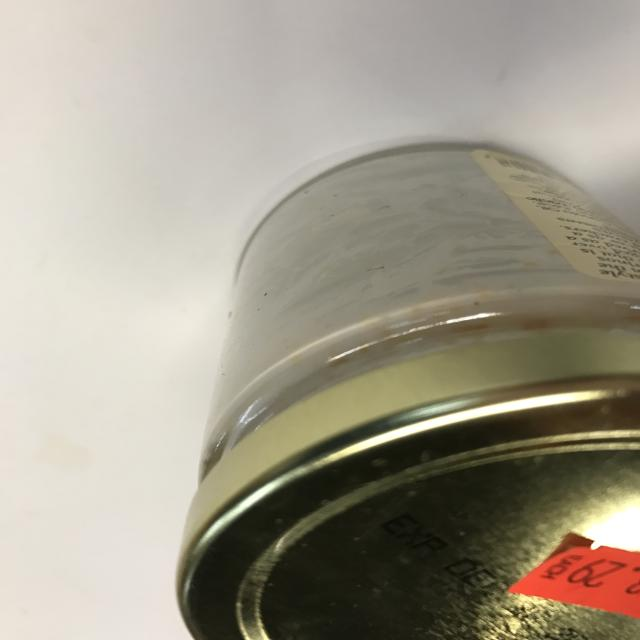glass: (171, 146, 638, 640)
